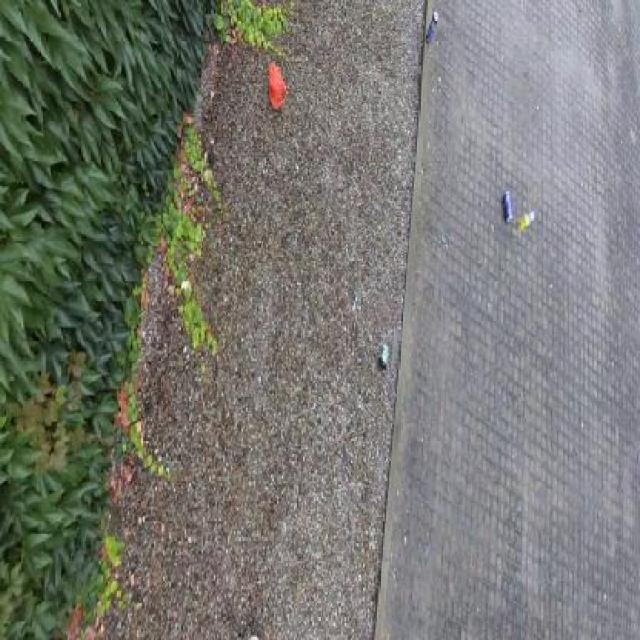Garbage: (268, 62, 287, 110), (512, 212, 534, 237), (502, 190, 513, 224), (426, 13, 438, 44), (378, 344, 388, 369), (352, 294, 357, 309)
